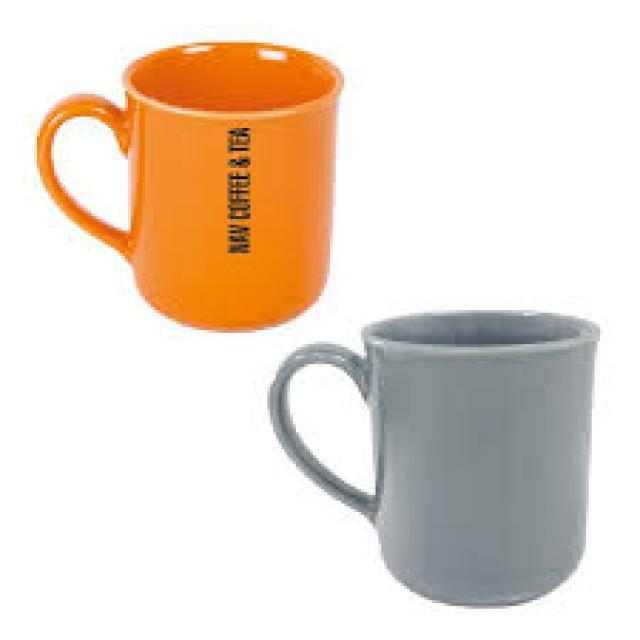taza: (266, 310, 601, 610), (33, 39, 345, 333)
